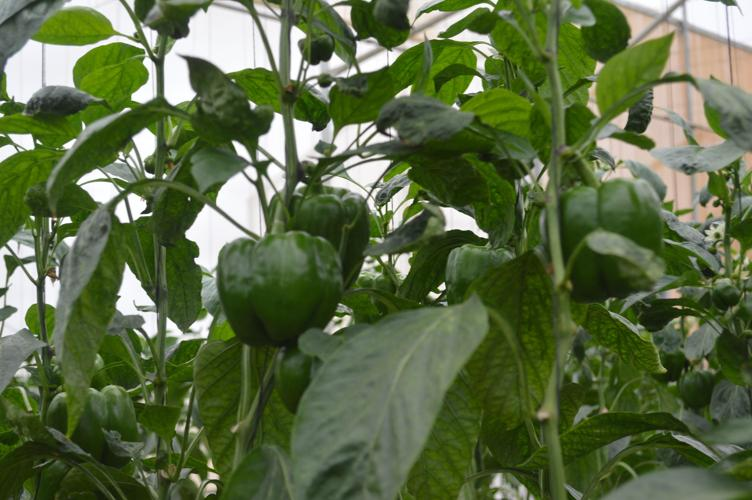BellPepper: (212, 235, 342, 338), (551, 179, 669, 285), (38, 389, 141, 466), (276, 189, 373, 263), (430, 240, 507, 298)
